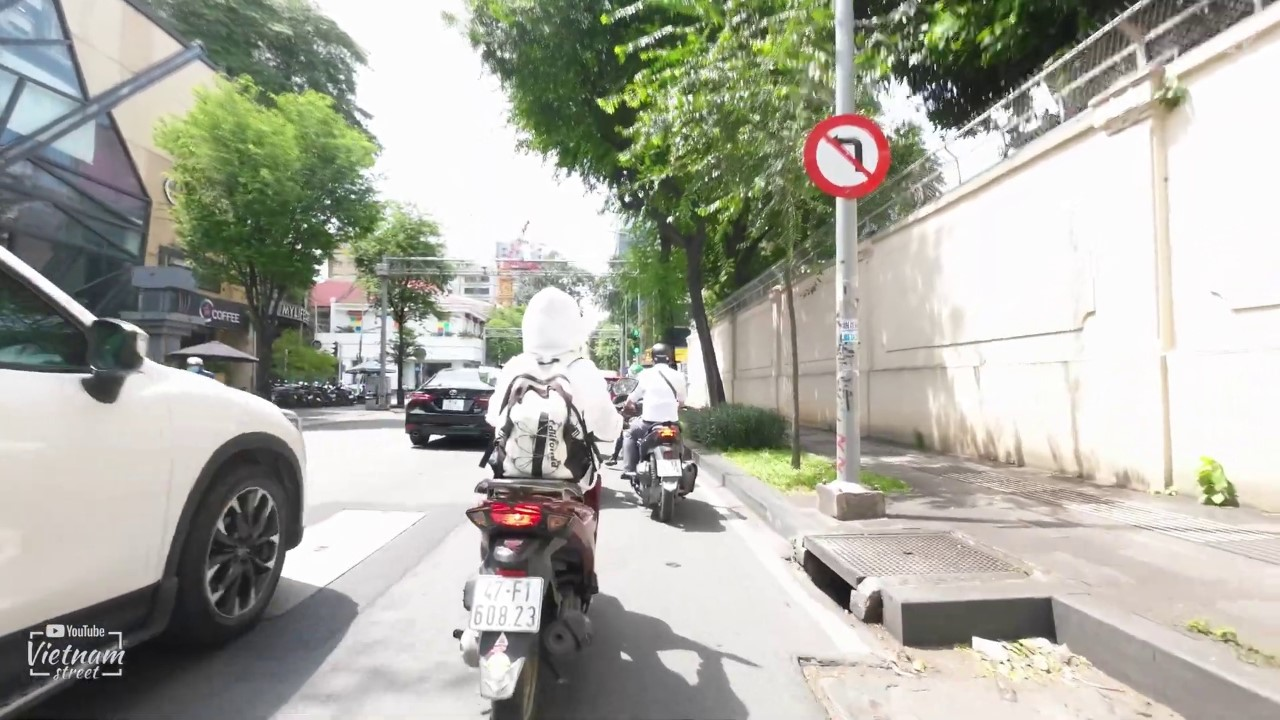cam_re_trai: (802, 111, 892, 200)
